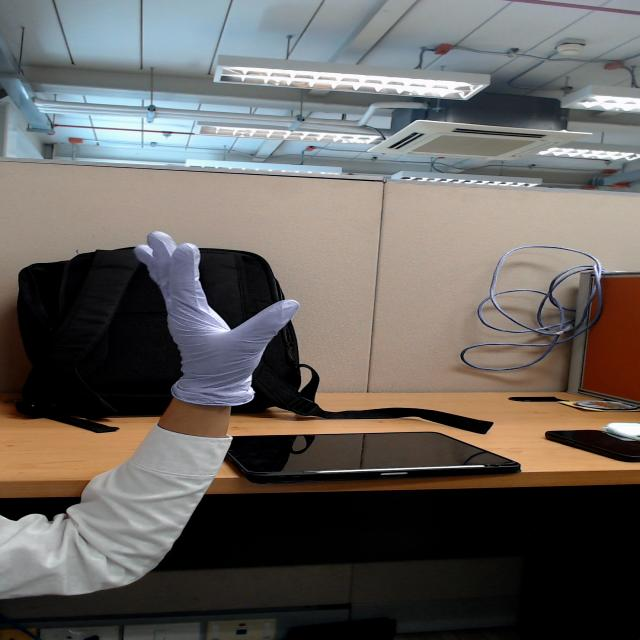glove: (118, 216, 331, 386)
